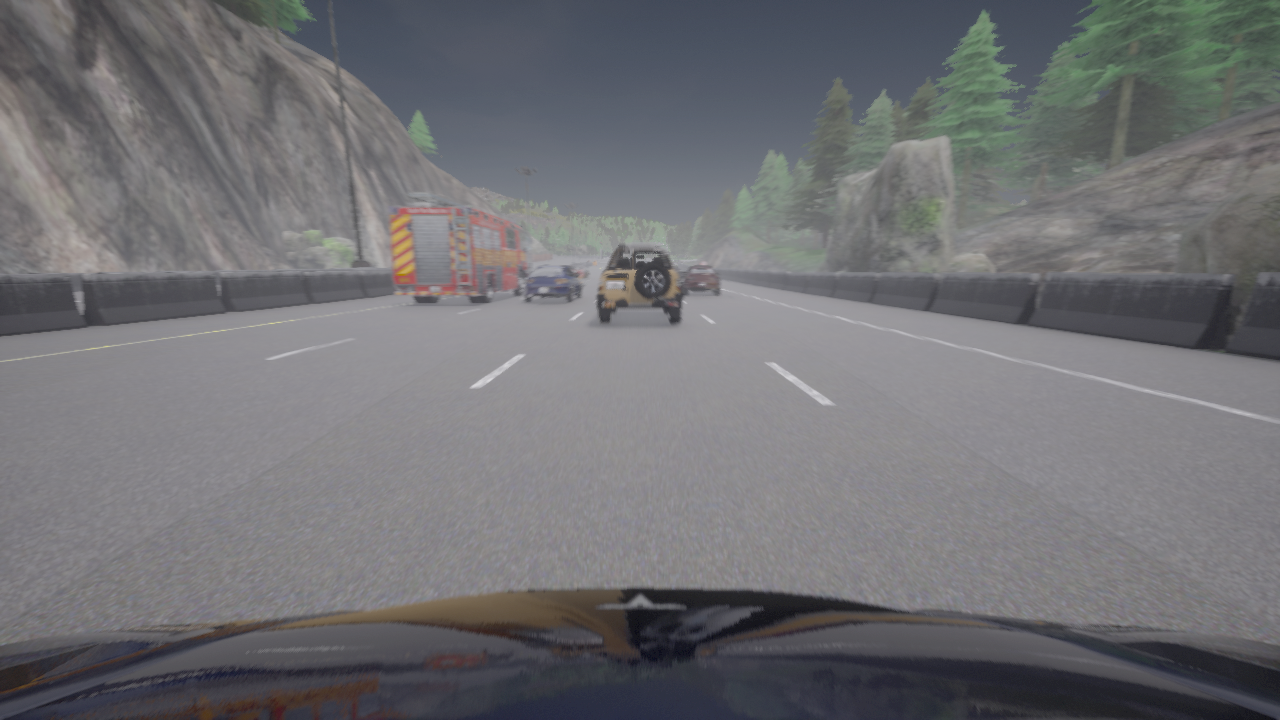cyclist: (0, 588, 1279, 719), (389, 192, 530, 303), (597, 244, 682, 323), (522, 265, 583, 302), (682, 266, 719, 294), (569, 264, 588, 278), (675, 268, 688, 279), (675, 265, 676, 267)
